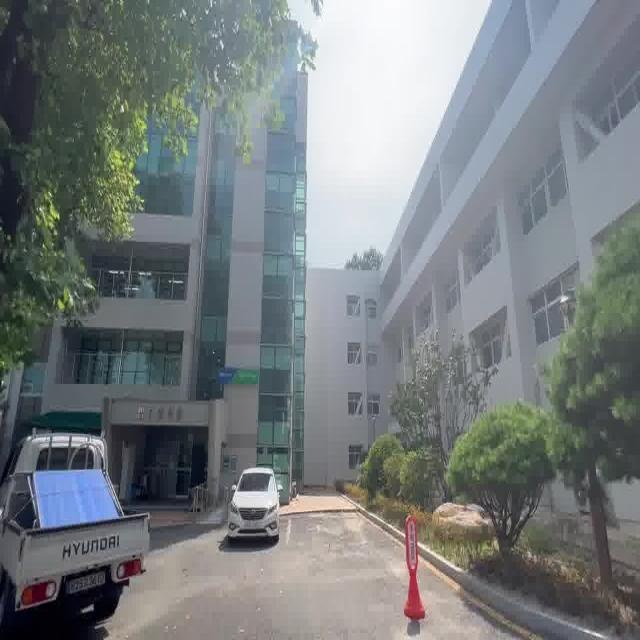building: (120, 157, 382, 462)
